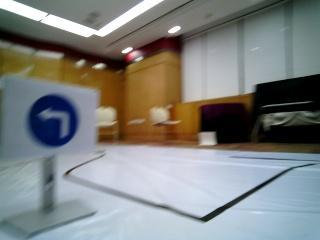left: (0, 71, 93, 147)
